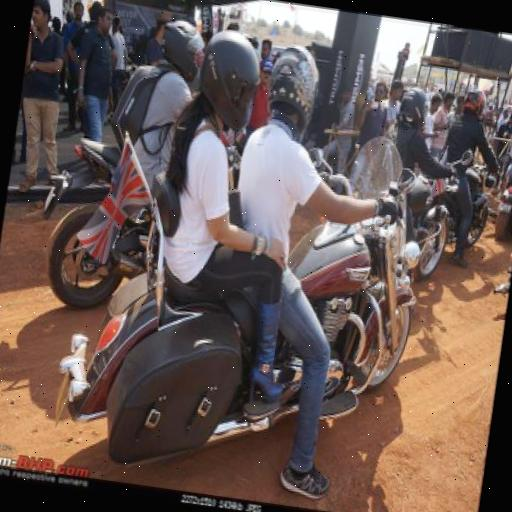helmet: (194, 18, 432, 502), (421, 70, 512, 277)
